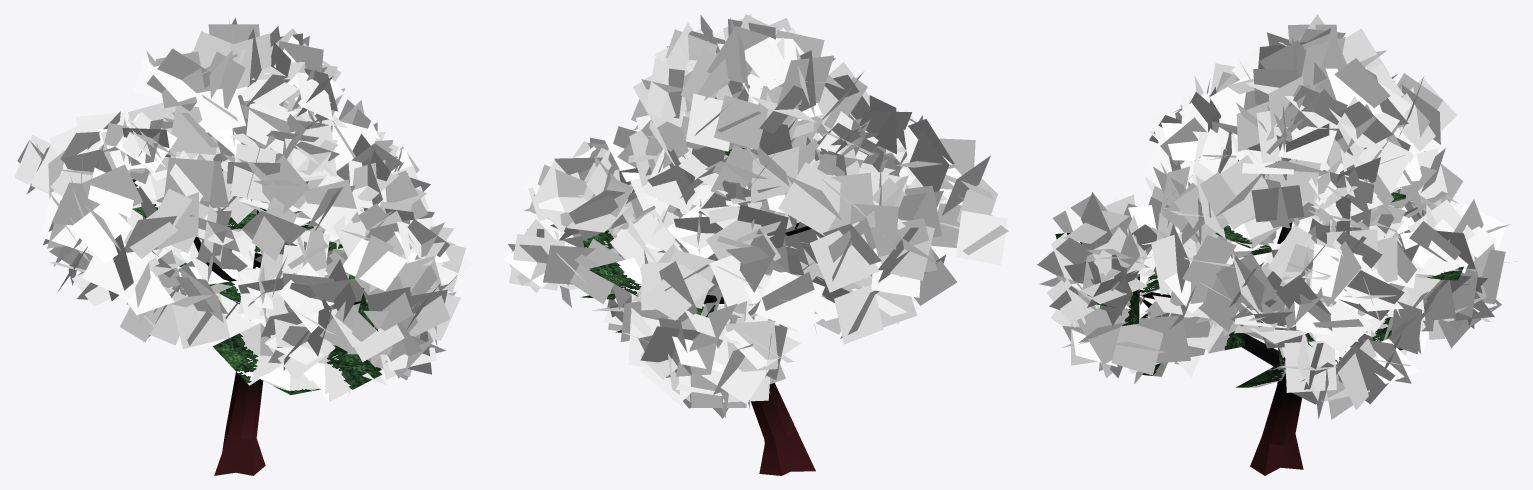
File: big_tree1.fbx
3 renders of one model, left to right at view 1: azimuth 30°, elevation 25°; view 2: azimuth 150°, elevation 25°; view 3: azimuth 270°, elevation 25°, orthographic. The views are drawn at different scales.
Visible parts, largest first — view 1: Plane.002, Plane.309, Plane.167, Plane.175, Plane.179, Plane.105, Plane.294, Plane.037, Plane.253, Plane.314, Plane.012, Plane.068 (+88 smaller); view 2: Plane.002, Plane.161, Plane.041, Plane.138, Plane.299, Plane.151, Plane.010, Plane.033, Plane.031, Plane.284, Plane.122, Plane.266 (+72 smaller); view 3: Plane.002, Plane.272, Plane.125, Plane.113, Plane.148, Plane.154, Plane.305, Plane.010, Plane.070, Plane.258, Plane.152, Plane.088 (+86 smaller).
Boxes of the visible parts, x1=… form: Plane.002: x1=132, y1=179, x2=360, y2=475; Plane.309: x1=213, y1=323, x2=282, y2=385; Plane.167: x1=342, y1=235, x2=407, y2=290; Plane.175: x1=82, y1=234, x2=150, y2=301; Plane.179: x1=70, y1=204, x2=132, y2=263; Plane.105: x1=241, y1=196, x2=307, y2=261; Plane.294: x1=81, y1=164, x2=142, y2=217; Plane.037: x1=227, y1=143, x2=280, y2=202; Plane.253: x1=149, y1=188, x2=208, y2=253; Plane.314: x1=305, y1=342, x2=375, y2=394; Plane.012: x1=164, y1=150, x2=214, y2=202; Plane.068: x1=171, y1=292, x2=230, y2=348; Plane.002: x1=703, y1=147, x2=815, y2=475; Plane.161: x1=755, y1=270, x2=824, y2=333; Plane.041: x1=778, y1=162, x2=842, y2=235; Plane.138: x1=641, y1=261, x2=714, y2=322; Plane.299: x1=954, y1=210, x2=1008, y2=265; Plane.151: x1=724, y1=320, x2=778, y2=371; Plane.010: x1=809, y1=221, x2=878, y2=292; Plane.033: x1=714, y1=95, x2=768, y2=150; Plane.031: x1=834, y1=284, x2=883, y2=344; Plane.284: x1=610, y1=212, x2=679, y2=268; Plane.122: x1=750, y1=146, x2=799, y2=203; Plane.266: x1=701, y1=340, x2=768, y2=403; Plane.002: x1=1139, y1=222, x2=1303, y2=475; Plane.272: x1=1335, y1=338, x2=1395, y2=409; Plane.125: x1=1174, y1=172, x2=1235, y2=241; Plane.113: x1=1311, y1=241, x2=1362, y2=306; Plane.148: x1=1284, y1=332, x2=1336, y2=400; Plane.154: x1=1318, y1=58, x2=1390, y2=114; Plane.305: x1=1108, y1=321, x2=1166, y2=375; Plane.010: x1=1398, y1=78, x2=1457, y2=151; Plane.070: x1=1251, y1=179, x2=1304, y2=228; Plane.258: x1=1215, y1=155, x2=1268, y2=229; Plane.152: x1=1151, y1=224, x2=1196, y2=299; Plane.088: x1=1339, y1=270, x2=1404, y2=320.
Bounding box in the file's own units: 877 × 891 × 887.
